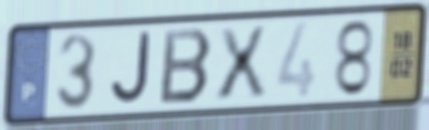3: (55, 31, 98, 115)
4: (274, 19, 319, 102)
8: (333, 17, 375, 98)
B: (157, 26, 216, 107)
J: (108, 29, 153, 109)
X: (213, 23, 270, 104)
